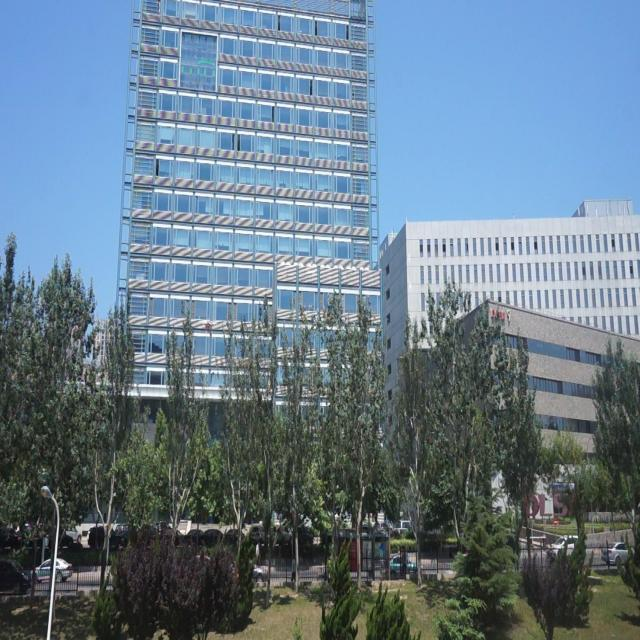UAV: (201, 320, 216, 333)
